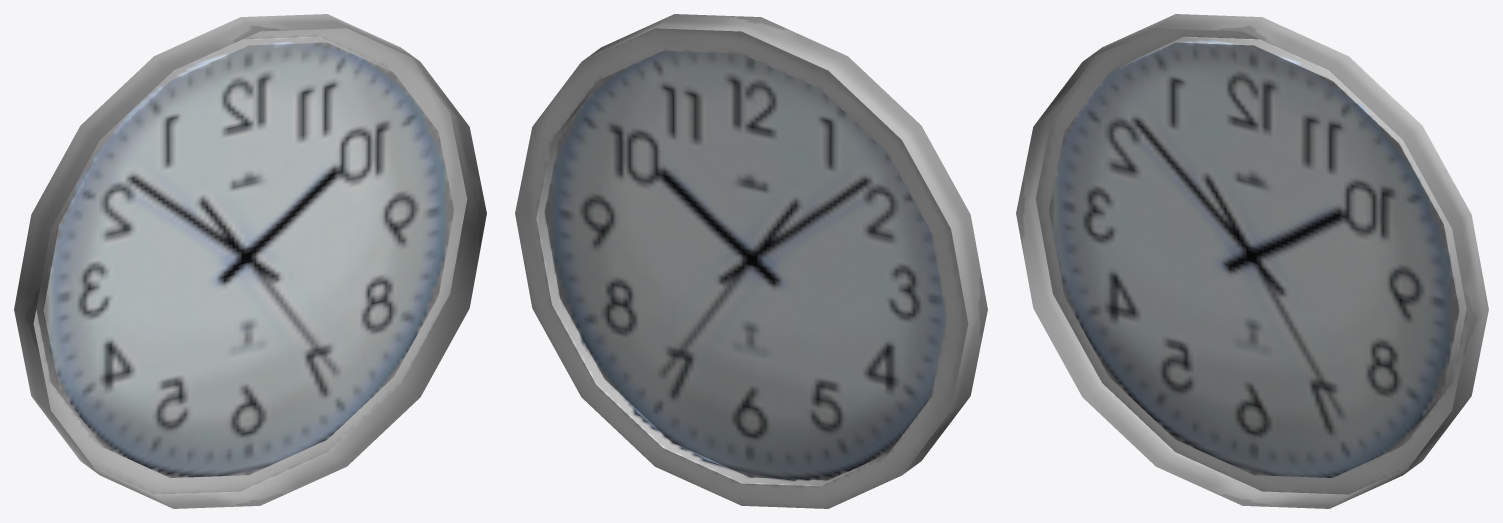
Rendered from Clock.fbx.
The picture shows the model from 3 angles, left to right: view 1: azimuth 30°, elevation 25°; view 2: azimuth 150°, elevation 25°; view 3: azimuth 330°, elevation 25°; orthographic projection.
Parts seen in each view (by area): view 1: clock.001|clock_L_clock.blend|Dupli|; view 2: clock.001|clock_L_clock.blend|Dupli|; view 3: clock.001|clock_L_clock.blend|Dupli|.
Part boxes in pixels (left/top/right/bottom): clock.001|clock_L_clock.blend|Dupli|: left=14, top=14, right=486, bottom=508; clock.001|clock_L_clock.blend|Dupli|: left=515, top=14, right=987, bottom=508; clock.001|clock_L_clock.blend|Dupli|: left=1016, top=14, right=1488, bottom=508.
Size of the model in its own units: 45.51 by 45.51 by 3.41.
